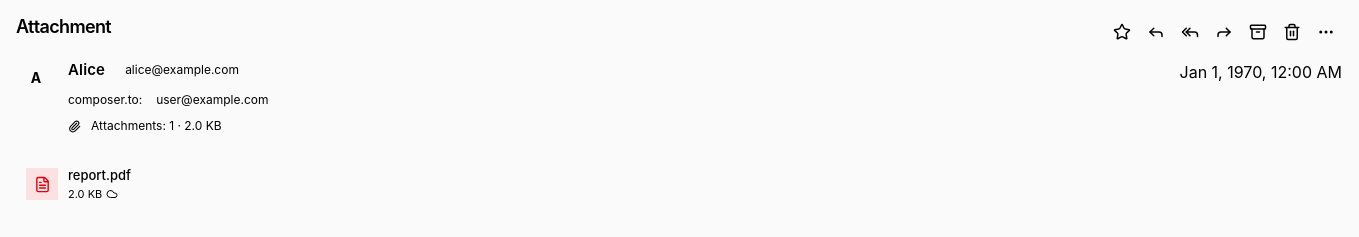
Test case: MessageViewer › keeps move and copy destinations in the overflow menu
Check: the heading "Attachment" is shown, box [16,16,111,38]
Check: the button "Move to" is not shown
Press the mouse on the button named "More actions" at {"x": 1326, "y": 32}, box [1310,16,1342,48]
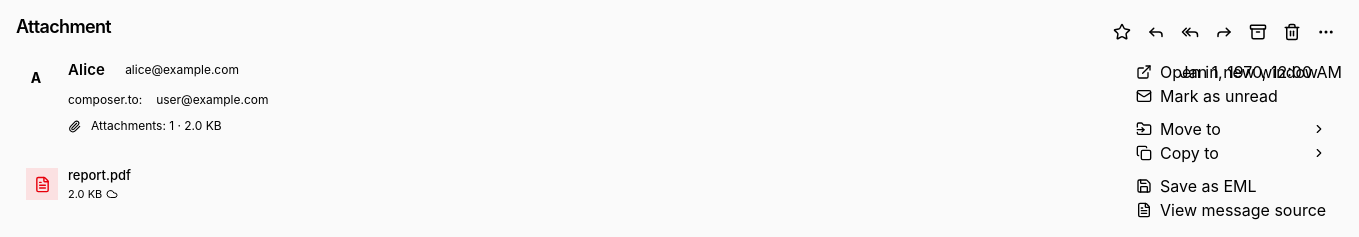
Check: the menu item "Move to" is shown, box [1126,117,1336,141]
Check: the menu item "Copy to" is shown, box [1126,141,1336,165]
